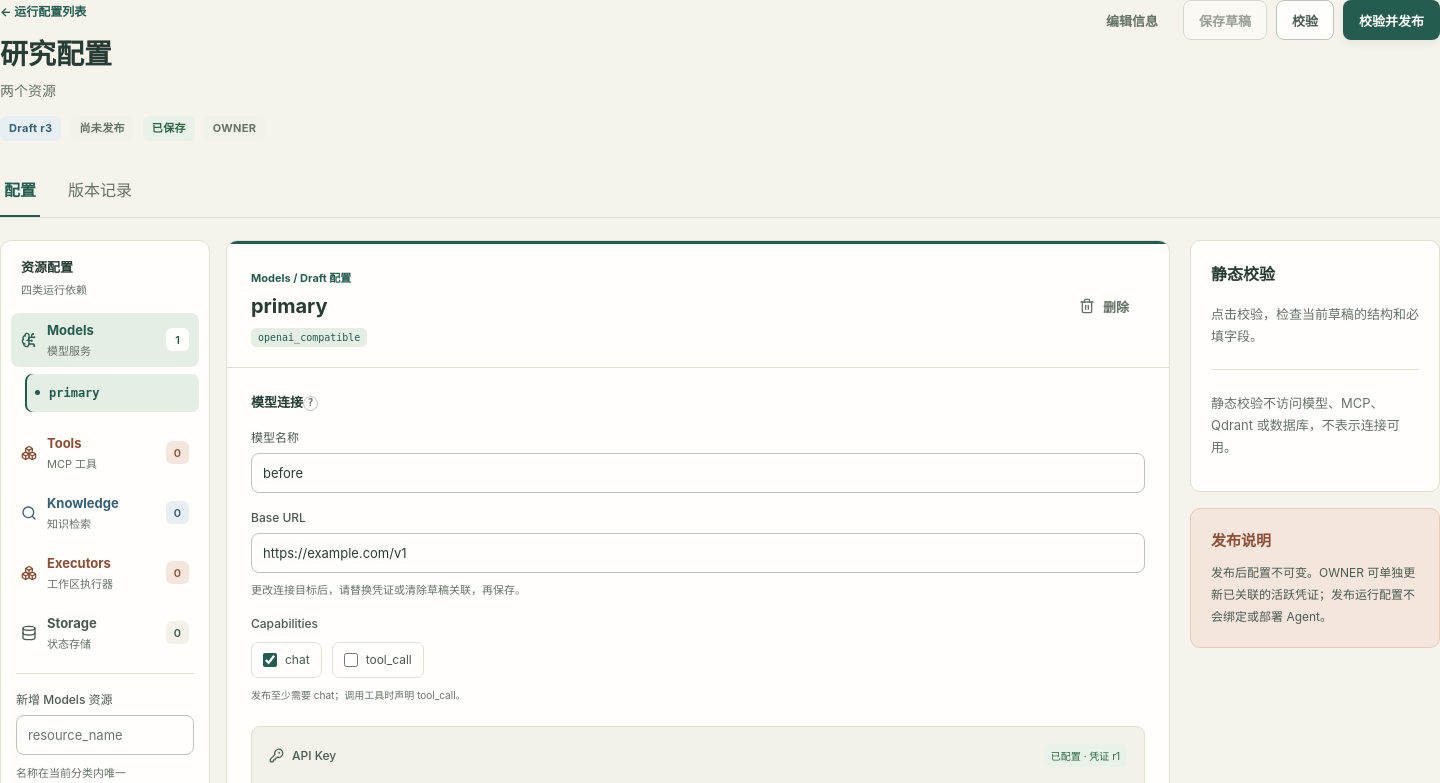
Test case: Runtime Profile workspace › does not resave an unchanged draft before validation
Expected: the heading "研究配置" is shown, [0,37,112,71]
Click the button "校验": point(1305, 20) [1276,0,1334,40]
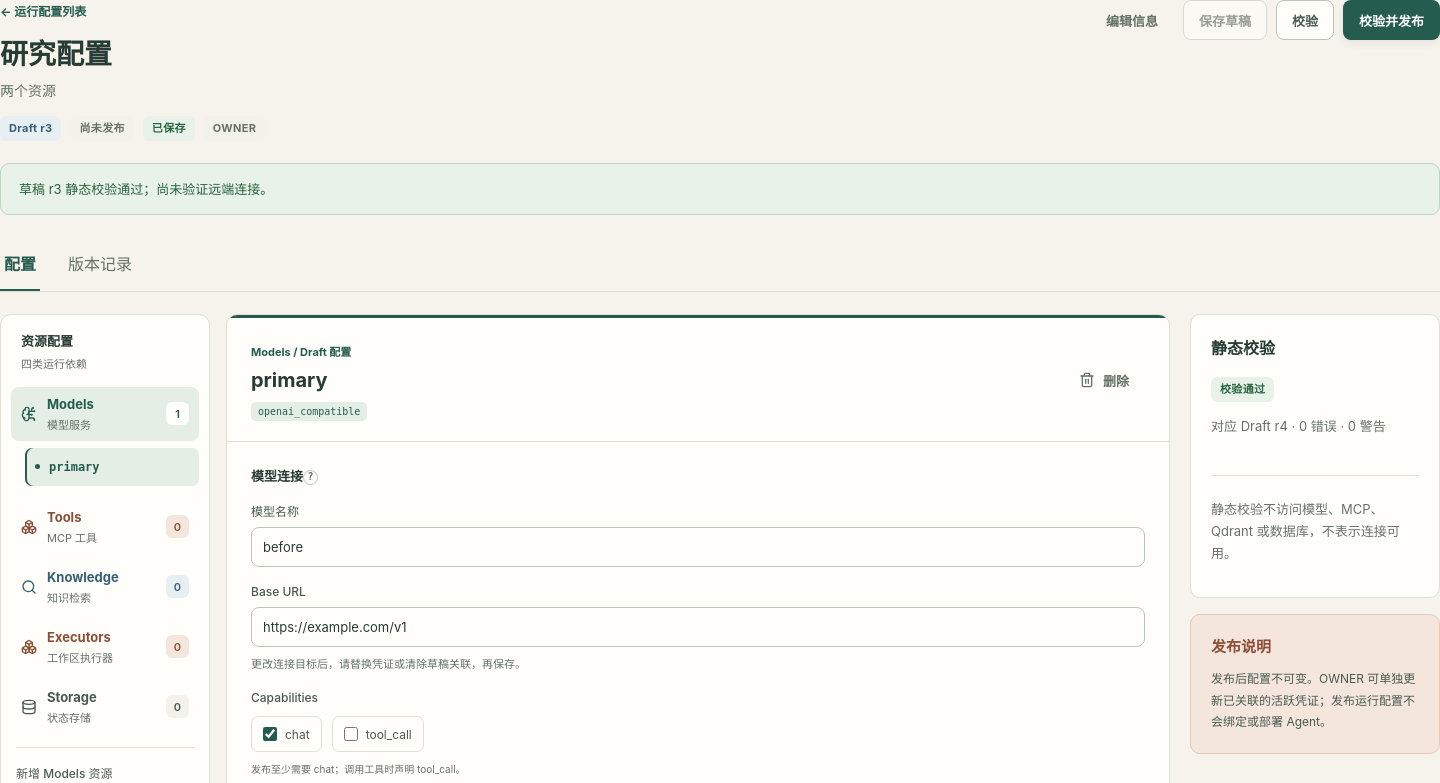
Expected: the text "草稿 r3 静态校验通过；尚未验证远端连接。" is shown, [0,163,1439,215]
